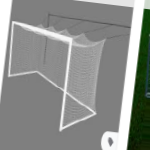goals: (8, 19, 106, 132)
